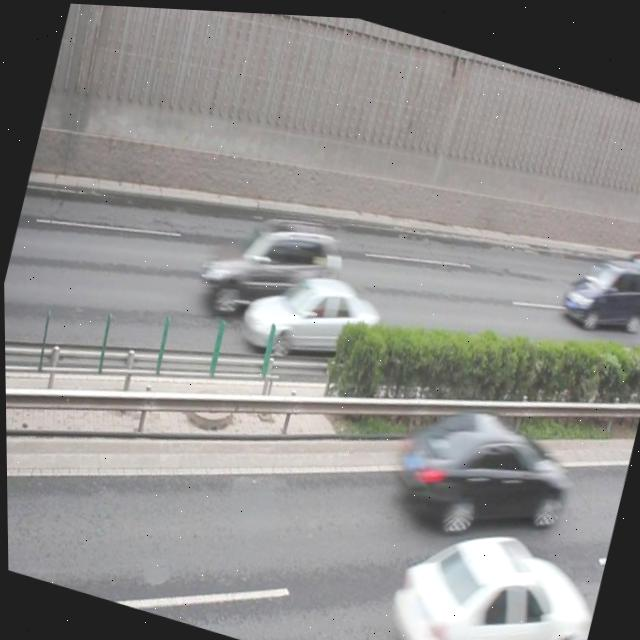car: (384, 383, 577, 556), (371, 495, 591, 640), (195, 191, 349, 340), (234, 250, 384, 379), (598, 233, 640, 298)
truck: (556, 239, 640, 335)
